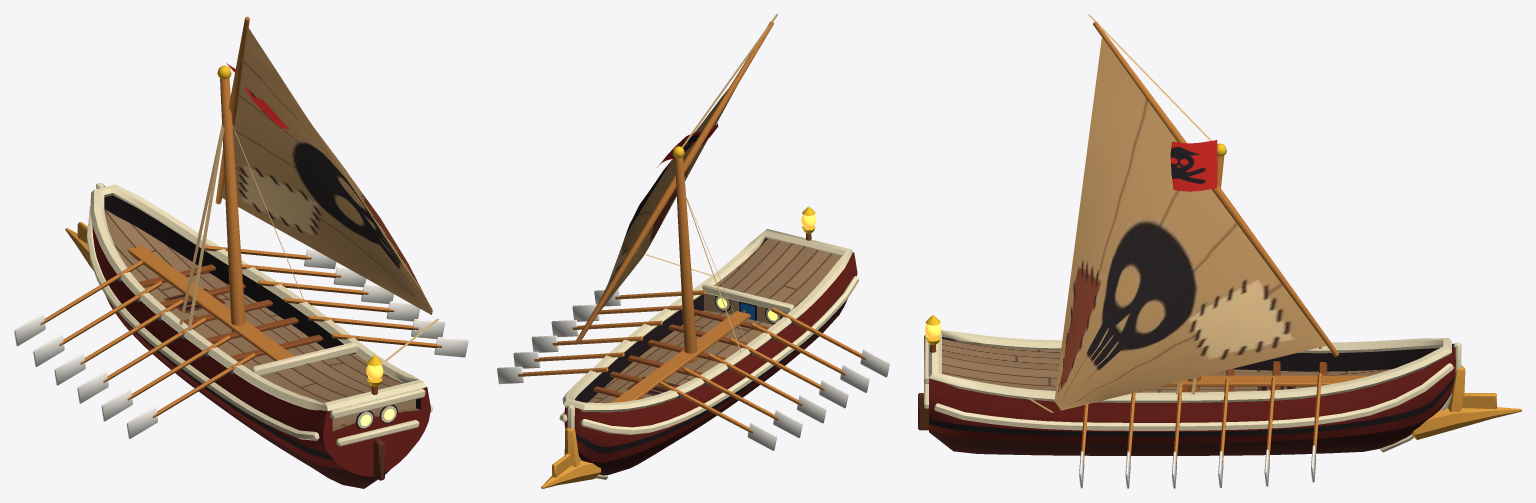
Rendered from brethren_galley.glb.
3 views of the same model, side by side, from view 1: azimuth 30°, elevation 25°; view 2: azimuth 150°, elevation 25°; view 3: azimuth 270°, elevation 25° (orthographic). The views are drawn at different scales.
Parts seen in each view (by area): view 1: Hull, Sail0_0, OarsL, OarsR, Rigging; view 2: Hull, OarsL, Rigging, OarsR, Sail0_0; view 3: Hull, Sail0_0, Rigging, OarsR, Flag.
Boxes of the visible parts, box(x1,y1,x2,y2) form: Hull: box(65, 183, 432, 488); Sail0_0: box(221, 27, 432, 314); OarsL: box(14, 260, 255, 438); OarsR: box(201, 245, 468, 357); Rigging: box(179, 16, 438, 360); Hull: box(541, 206, 858, 488); OarsL: box(658, 307, 889, 450); Rigging: box(576, 14, 777, 362); OarsR: box(497, 289, 705, 384); Sail0_0: box(598, 87, 736, 313); Hull: box(918, 315, 1521, 455); Sail0_0: box(1054, 37, 1326, 410); Rigging: box(1027, 14, 1338, 412); OarsR: box(1079, 373, 1321, 488); Flag: box(1170, 140, 1217, 191).
Bounding box in the file's own units: 1.65 × 2.01 × 2.64.
8 materials, 4 textured.
